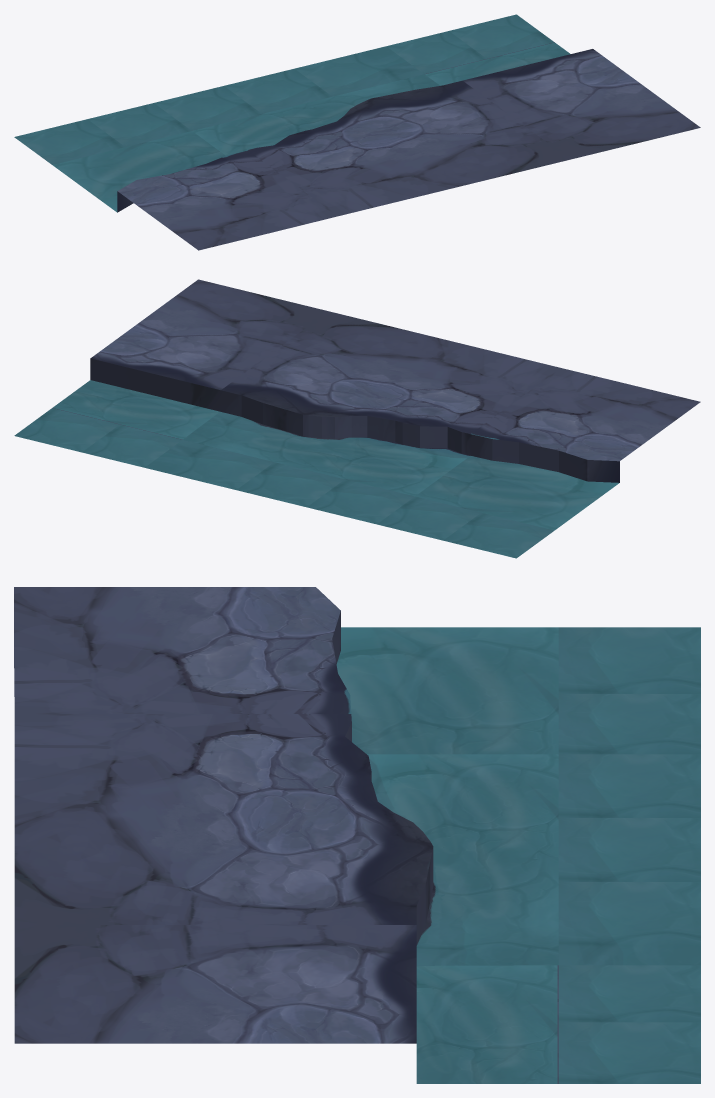
File: Snake_land_01.fbx
3 renders of one model, top to bottom at view 1: azimuth 30°, elevation 25°; view 2: azimuth 150°, elevation 25°; view 3: azimuth 270°, elevation 25°, orthographic. The views are drawn at different scales.
Visible parts, largest first — view 1: Snake_land_01; view 2: Snake_land_01; view 3: Snake_land_01.
Part boxes in pixels (x1,y1,x2,y2): Snake_land_01: [14, 14, 700, 250]; Snake_land_01: [14, 279, 700, 558]; Snake_land_01: [14, 587, 700, 1083].
Size of the model in its own units: 4183 by 172 by 2660.
